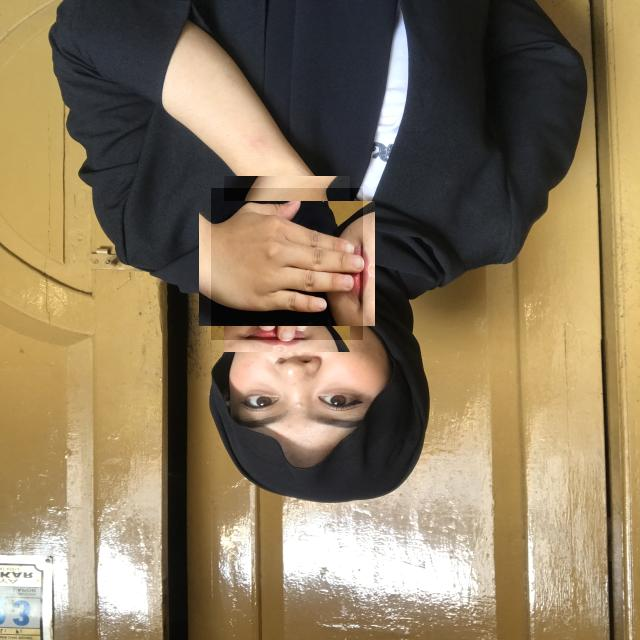ganteng: (211, 188, 363, 340)
